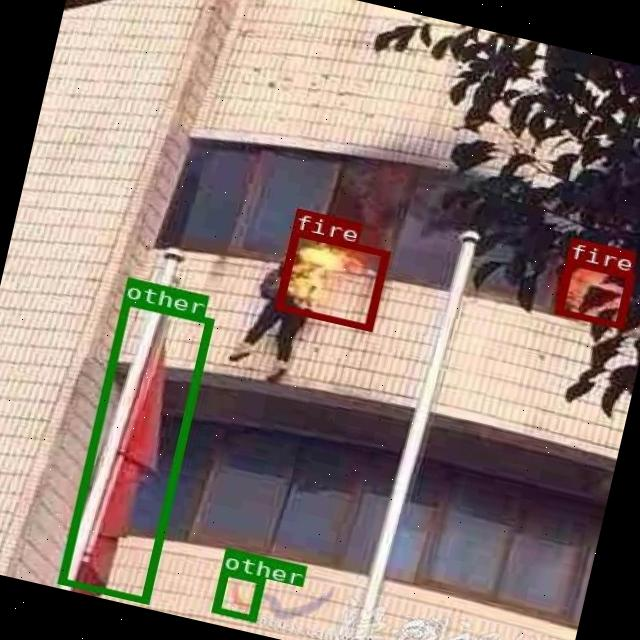fire: (272, 228, 388, 329), (552, 256, 633, 328)
